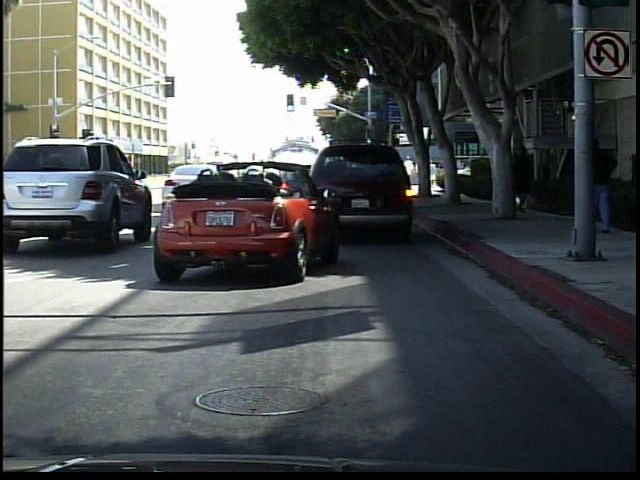person: (576, 132, 623, 239), (518, 145, 537, 216)
